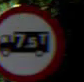Heavy Vehicles: (1, 5, 63, 78)
